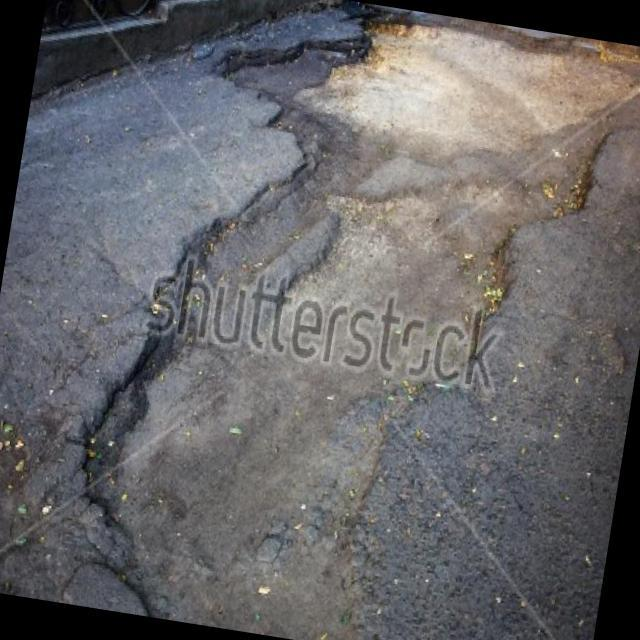Pothole: (89, 22, 640, 640)
